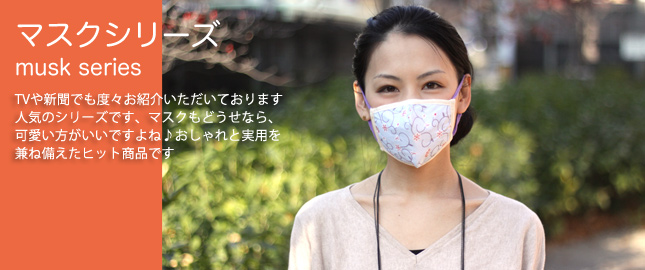mask: (368, 110, 465, 154)
